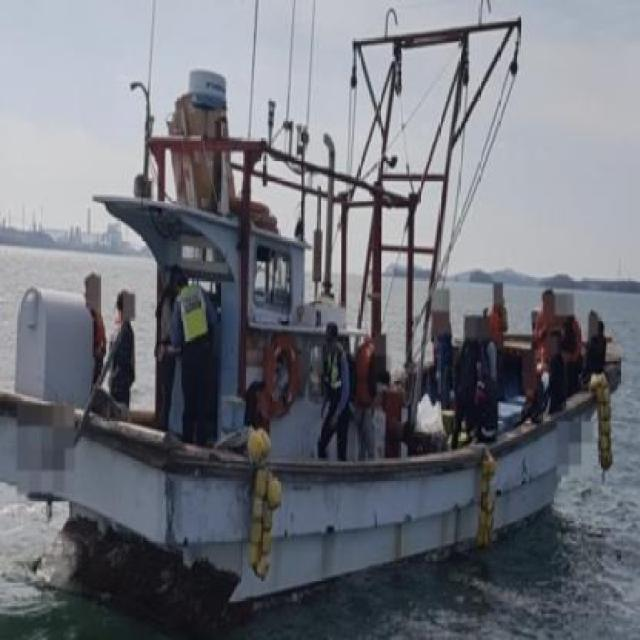fish-b: (1, 1, 638, 632)
